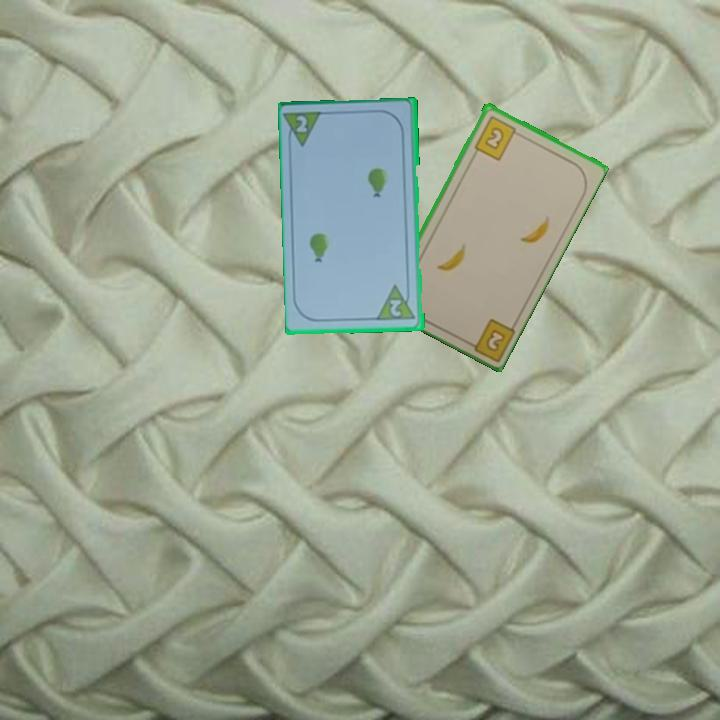2b: (470, 112, 523, 163), (461, 314, 517, 362)
2p: (291, 112, 311, 136), (387, 296, 406, 320)
